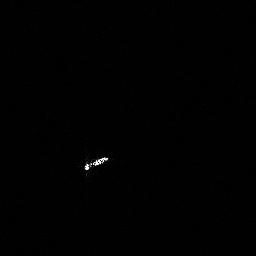ship: (81, 154, 111, 173)
